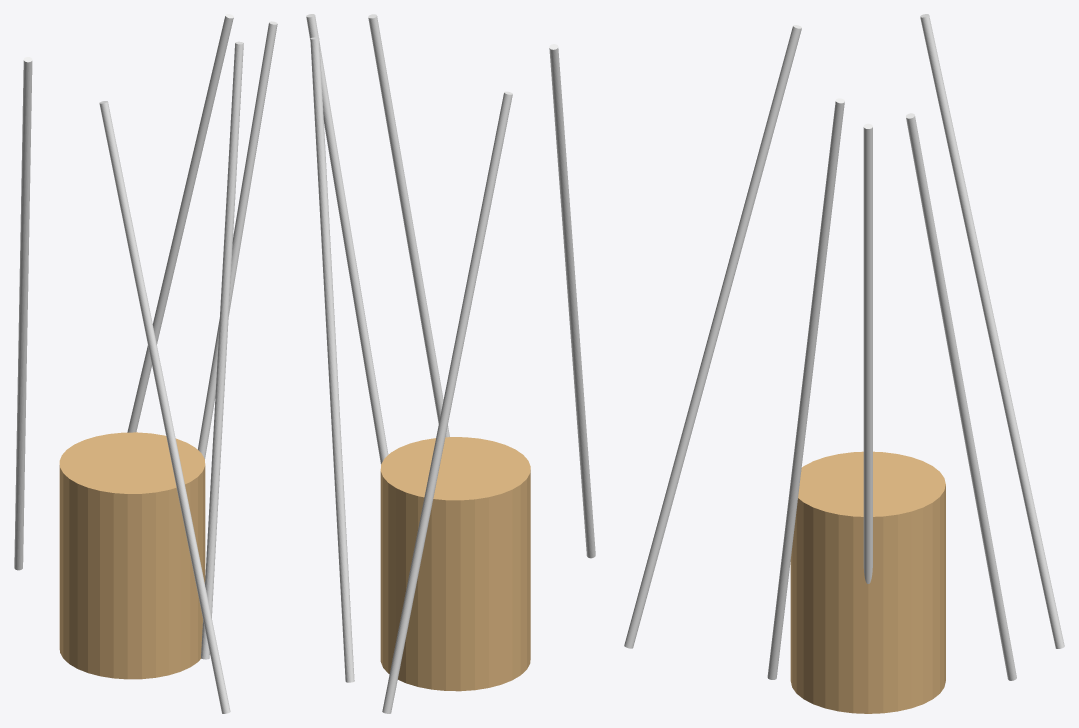
File: arch_diffuser.glb
3 views of the same model, side by side, from view 1: azimuth 30°, elevation 25°; view 2: azimuth 150°, elevation 25°; view 3: azimuth 270°, elevation 25° (orthographic). The views are drawn at different scales.
Parts seen in each view (by area): view 1: Diffuser_Bottle, Diffuser_Reed.002, Diffuser_Reed, Diffuser_Reed.001, Diffuser_Reed.003, Diffuser_Reed.004; view 2: Diffuser_Bottle, Diffuser_Reed.003, Diffuser_Reed.001, Diffuser_Reed.002, Diffuser_Reed.004, Diffuser_Reed; view 3: Diffuser_Bottle, Diffuser_Reed.001, Diffuser_Reed.002, Diffuser_Reed, Diffuser_Reed.003, Diffuser_Reed.004.
Part boxes in pixels (<box>): Diffuser_Bottle: <box>59,432,205,679</box>; Diffuser_Reed.002: <box>99,101,230,713</box>; Diffuser_Reed: <box>201,41,243,659</box>; Diffuser_Reed.001: <box>14,57,32,570</box>; Diffuser_Reed.003: <box>127,14,233,432</box>; Diffuser_Reed.004: <box>198,21,277,458</box>; Diffuser_Bottle: <box>380,437,530,691</box>; Diffuser_Reed.003: <box>310,37,354,682</box>; Diffuser_Reed.001: <box>382,91,512,713</box>; Diffuser_Reed.002: <box>549,44,595,558</box>; Diffuser_Reed.004: <box>306,14,388,464</box>; Diffuser_Reed: <box>368,14,449,437</box>; Diffuser_Bottle: <box>790,451,945,713</box>; Diffuser_Reed.001: <box>920,14,1064,648</box>; Diffuser_Reed.002: <box>624,25,801,648</box>; Diffuser_Reed: <box>767,98,844,679</box>; Diffuser_Reed.003: <box>906,113,1016,680</box>; Diffuser_Reed.004: <box>863,123,872,583</box>.
Bounding box in the file's own units: 0.0894 × 0.2239 × 0.142.
